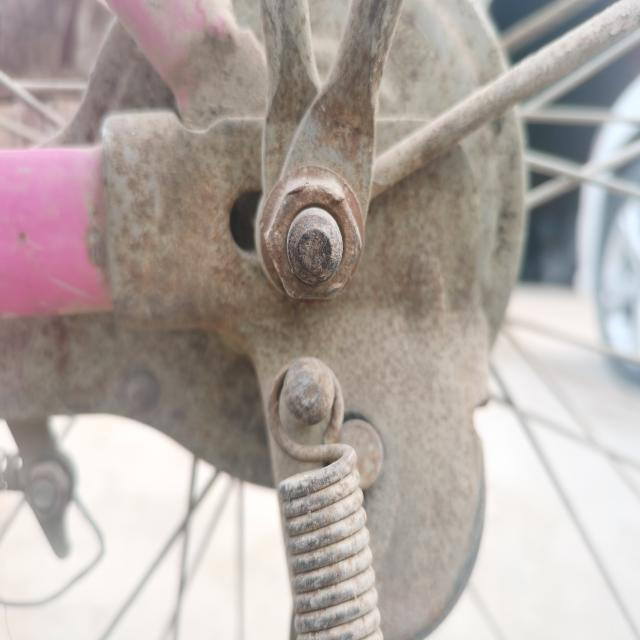blur bolt: (23, 461, 73, 524)
bolt nut: (264, 176, 365, 304)
